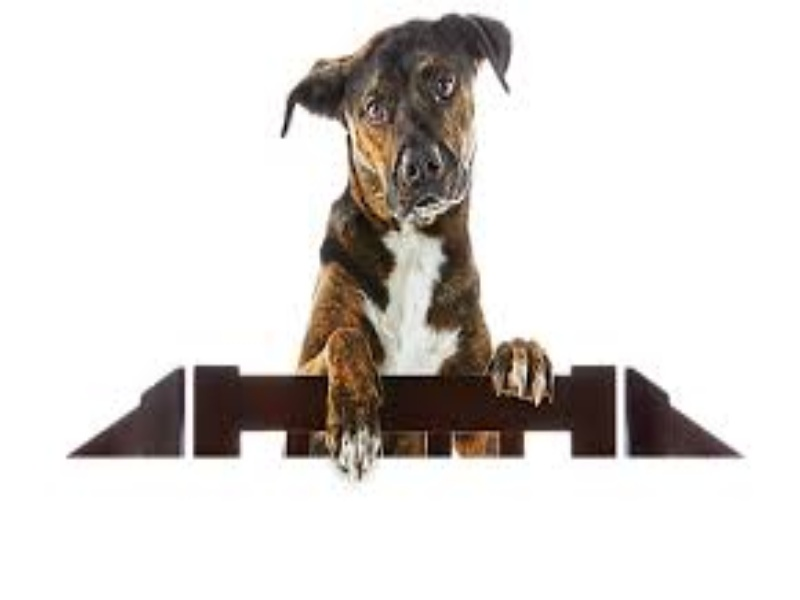dog: (278, 9, 566, 481)
